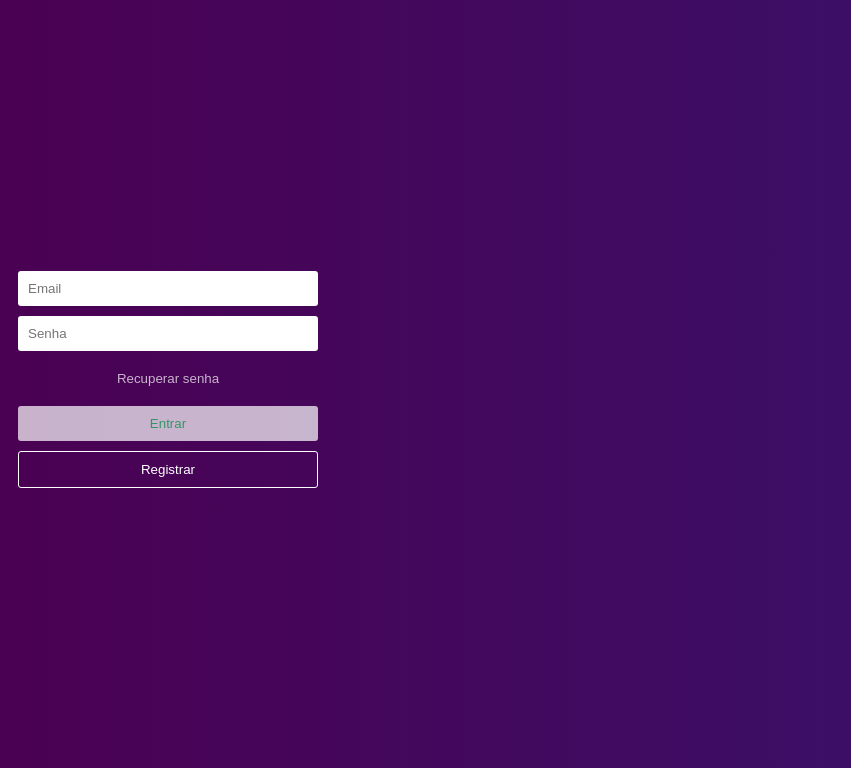
Test case: Login › given email › when valid, then enable recover password button
Type "valid@email.com" into the field with test id "email" at (168, 288), box [18, 270, 318, 306]
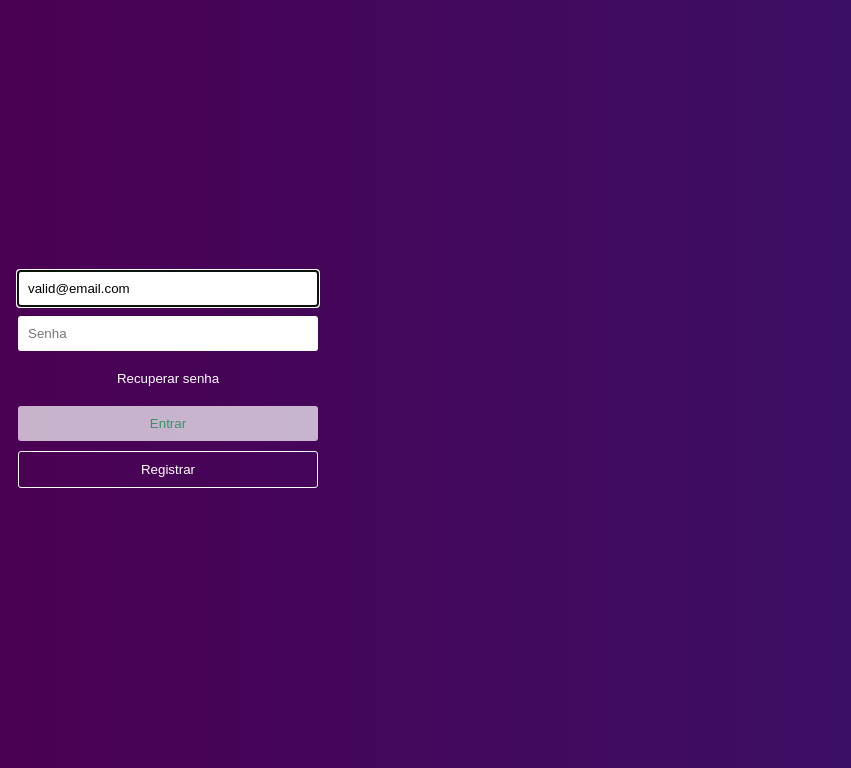
Expected: the button with test id "recover-password-button" is enabled, [18, 360, 318, 396]
